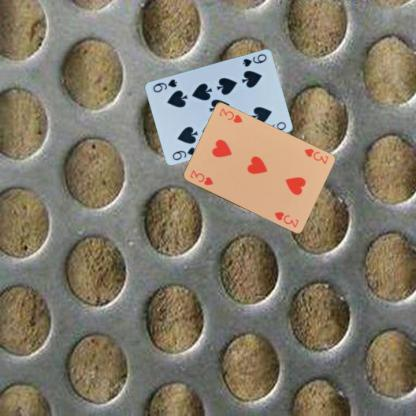3h: (301, 146, 329, 165), (188, 168, 214, 186)
9s: (240, 50, 268, 68), (170, 145, 197, 162)
